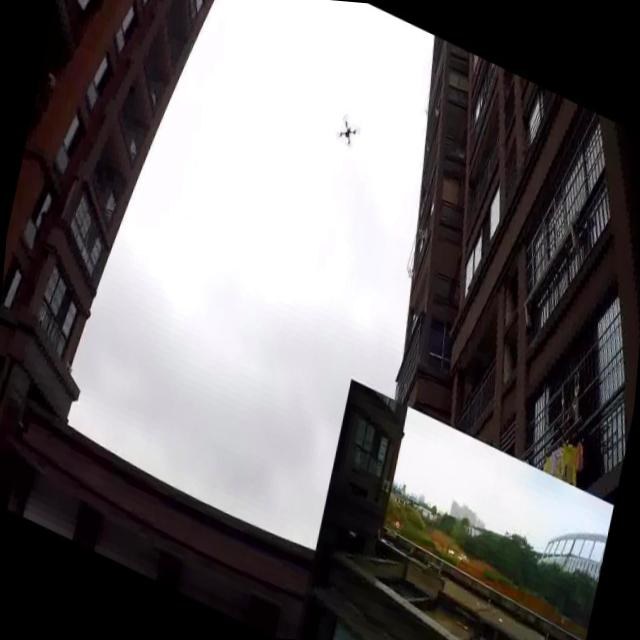drone: (330, 105, 364, 154)
